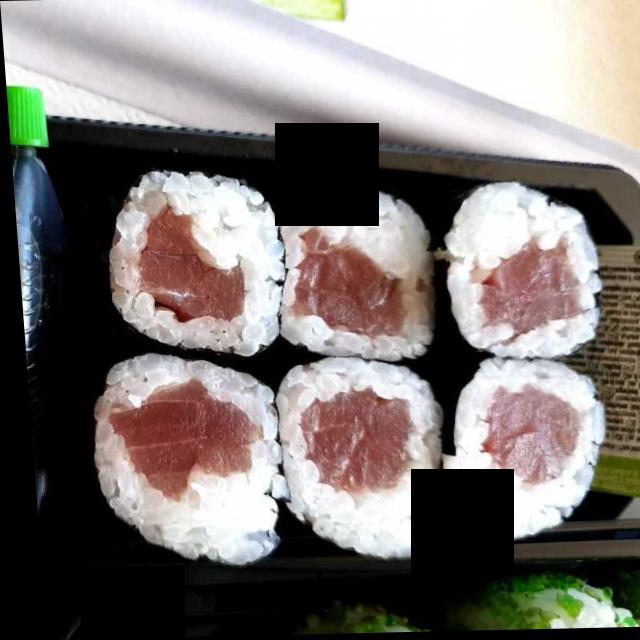sushi: (84, 172, 603, 558)
